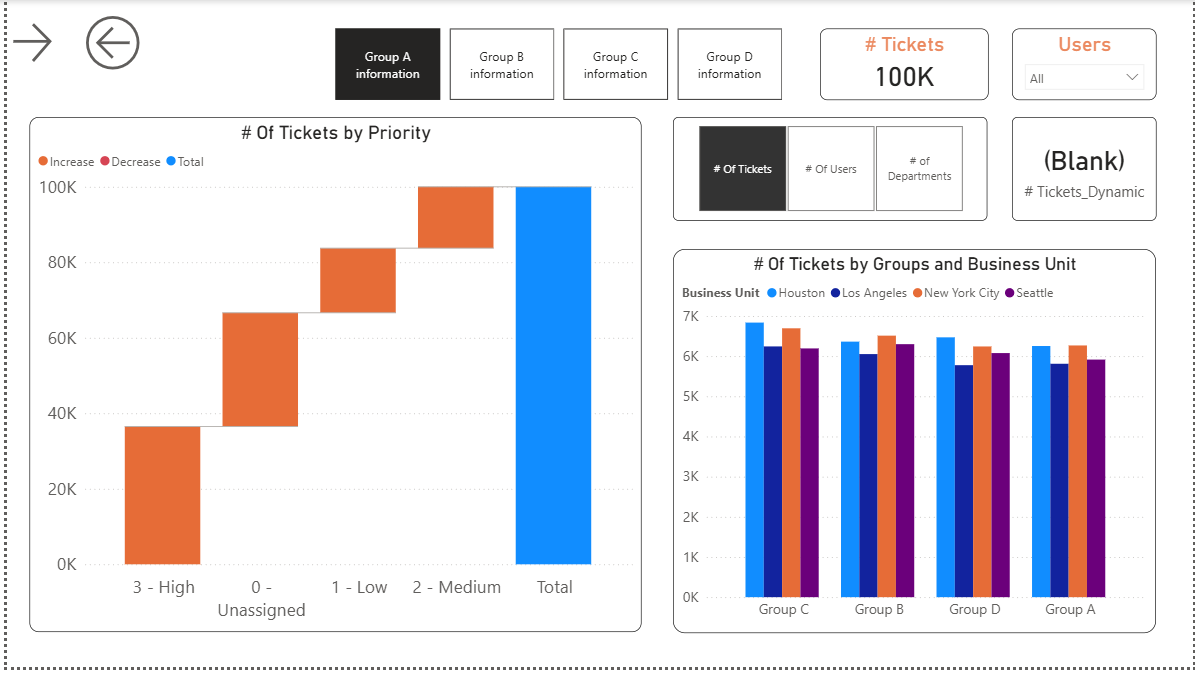

The page's visual inventory and layout, read from the dashboard file:
{"tool":"powerbi","page":{"name":"Executive page","canvas":[1280,720],"ordinal":1},"visuals":[{"type":"card","title":"# Tickets","fields":{"Values":["Tickets.# Of Tickets"]},"box":[877.4,31.2,181.7,77.1],"z":6000},{"type":"clusteredColumnChart","fields":{"Category":["Tickets.Groups"],"Series":["Tickets.Business Unit"],"Y":["Tickets.# Of Tickets"]},"box":[719.5,268,521.3,414.8],"z":7000},{"type":"slicer","title":"Users","fields":{"Values":["Tickets.Last Name"]},"box":[1084.8,31.2,156,77.1],"z":10000},{"type":"card","fields":{"Values":["Tickets.# Tickets_Dynamic"]},"box":[1084.8,126.7,156,112],"z":11000},{"type":"waterfallChart","fields":{"Category":["Tickets.Priority"],"Y":["Tickets.# Of Tickets"]},"box":[23.9,126.7,660.8,556.2],"z":12000},{"type":"slicer","fields":{"Values":["Dynamic Measures.Dynamic Measures"]},"box":[719.5,126.7,339.6,112],"z":13000},{"type":"bookmarkNavigator","box":[354.3,31.2,482.8,77.1],"z":15000},{"type":"actionButton","box":[0,20.2,77.1,53.2],"z":16000},{"type":"actionButton","box":[77.3,10.2,99.1,72.9],"z":17000}]}

Visuals, with their boxes in screenshot pixels (x1, y1, x2, y2), scaled from the page's 1280x720 canvas onto the 1195x674 screenshot:
"# Tickets" card: l=819, t=29, r=989, b=101
clusteredColumnChart - Tickets.Groups x Tickets.Business Unit: l=672, t=251, r=1158, b=639
"Users" slicer: l=1013, t=29, r=1158, b=101
card - Tickets.# Tickets_Dynamic: l=1013, t=119, r=1158, b=223
waterfallChart - Tickets.Priority x Tickets.# Of Tickets: l=22, t=119, r=639, b=639
slicer - Dynamic Measures.Dynamic Measures: l=672, t=119, r=989, b=223
bookmarkNavigator: l=331, t=29, r=782, b=101
actionButton: l=0, t=19, r=72, b=69
actionButton: l=72, t=10, r=165, b=78
